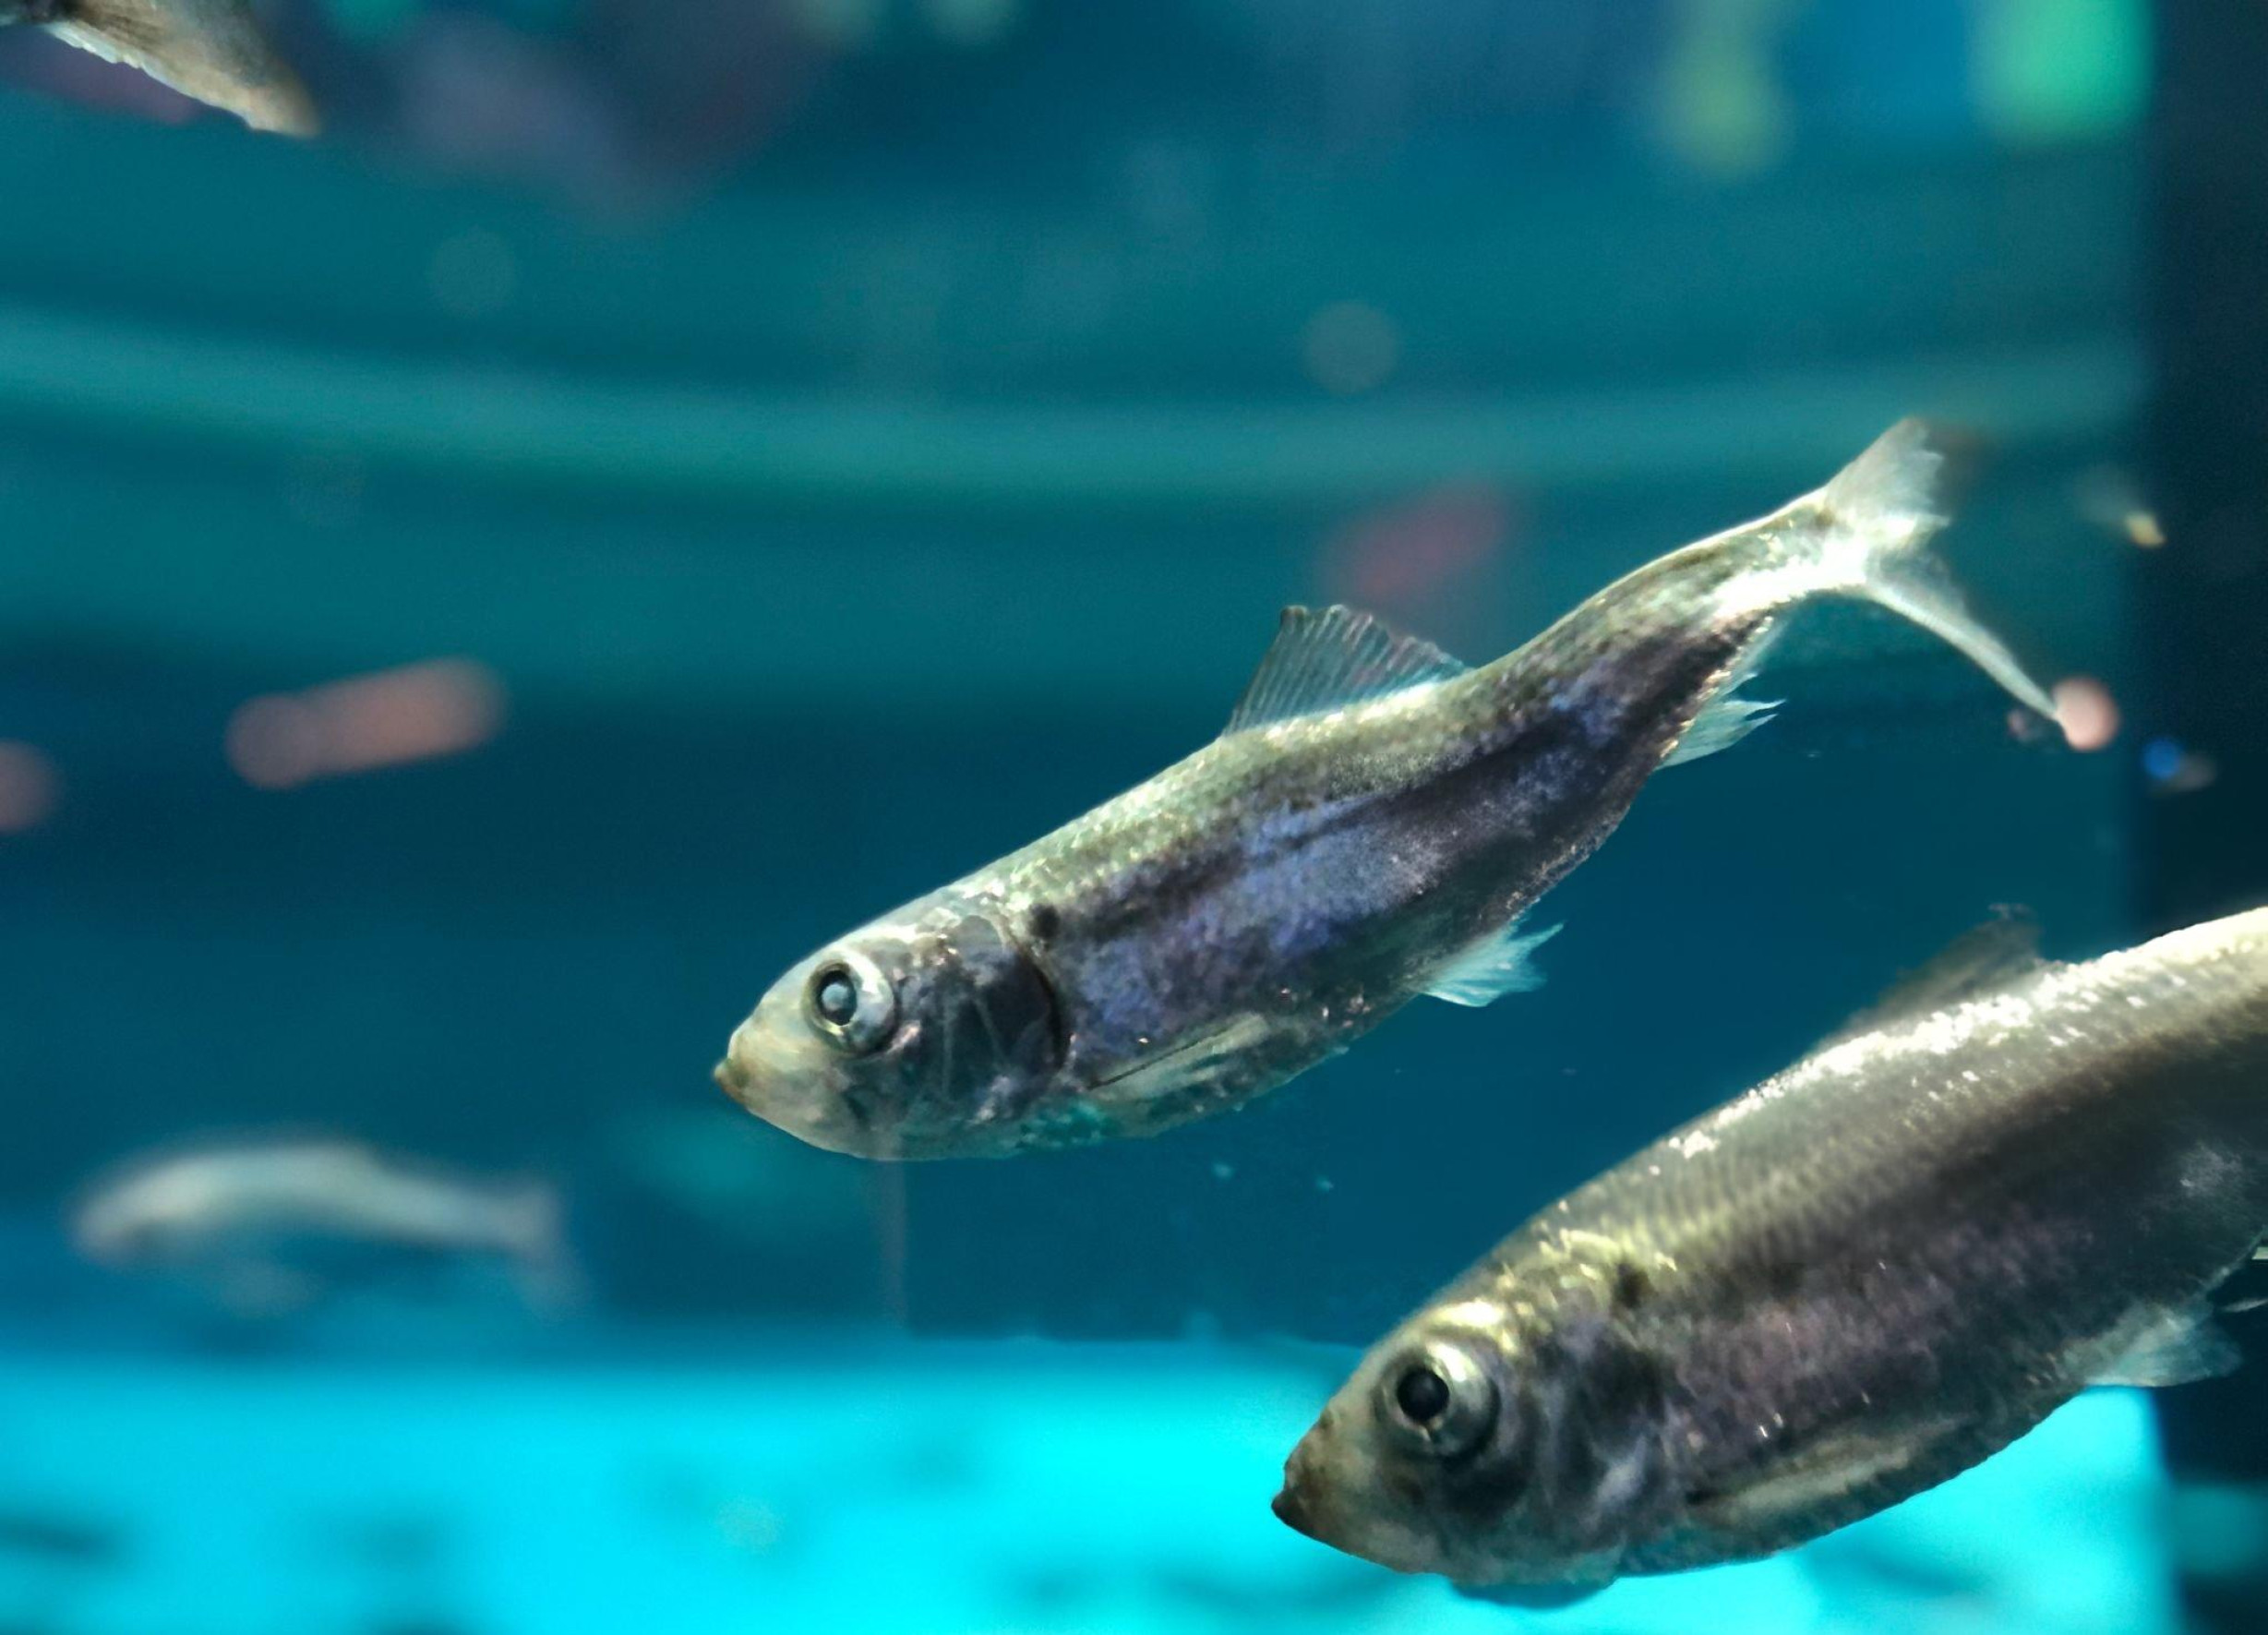Pecific herring: (704, 409, 2083, 1179), (1268, 897, 2268, 1621)
